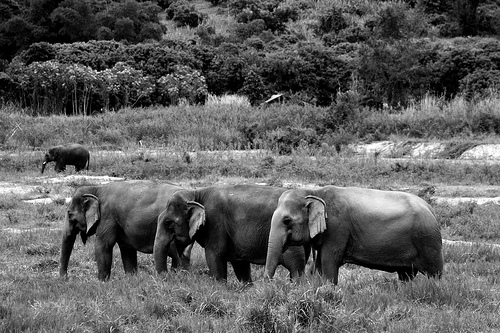elephant: (264, 180, 453, 298), (152, 181, 333, 296), (55, 174, 200, 288), (39, 139, 96, 180)
